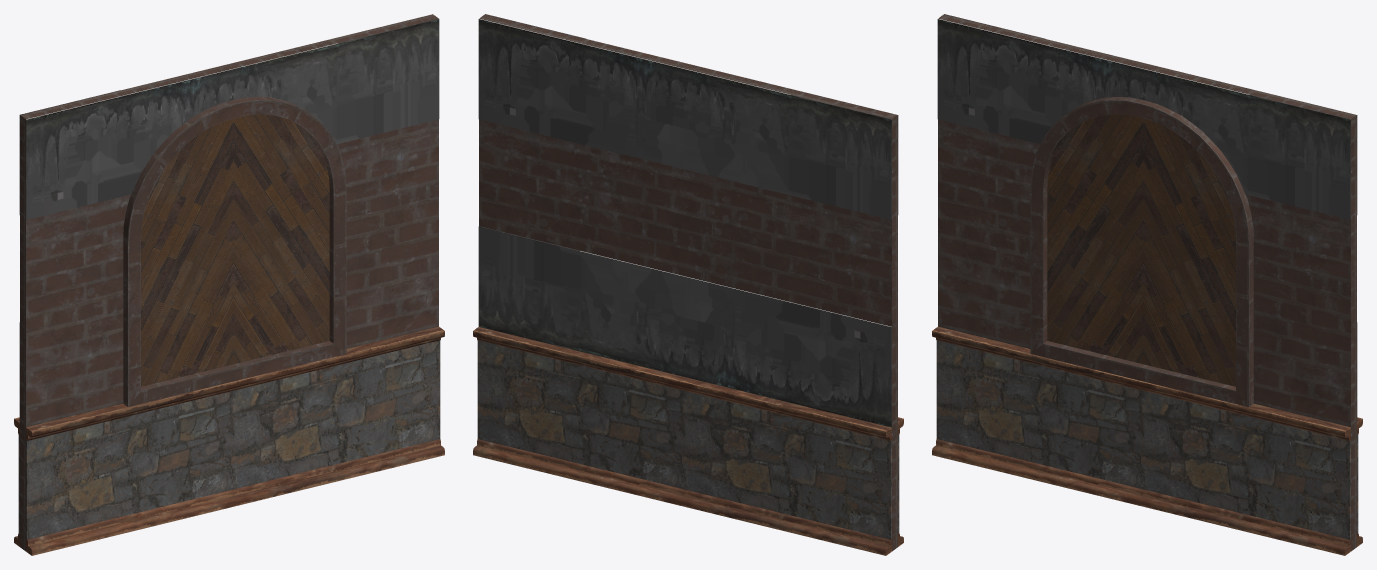
Rendered from Kit_BricksWindowCobblestone.fbx.
3 views of the same model, side by side, from view 1: azimuth 30°, elevation 25°; view 2: azimuth 150°, elevation 25°; view 3: azimuth 330°, elevation 25° (orthographic).
Parts seen in each view (by area): view 1: Kit_BricksWindowCobblestone; view 2: Kit_BricksWindowCobblestone; view 3: Kit_BricksWindowCobblestone.
Boxes of the visible parts, x1,y1,x2,y2 form: Kit_BricksWindowCobblestone: (14, 14, 444, 555); Kit_BricksWindowCobblestone: (473, 14, 903, 555); Kit_BricksWindowCobblestone: (932, 14, 1362, 555).
Size of the model in its own units: 157 by 157 by 11.79.
